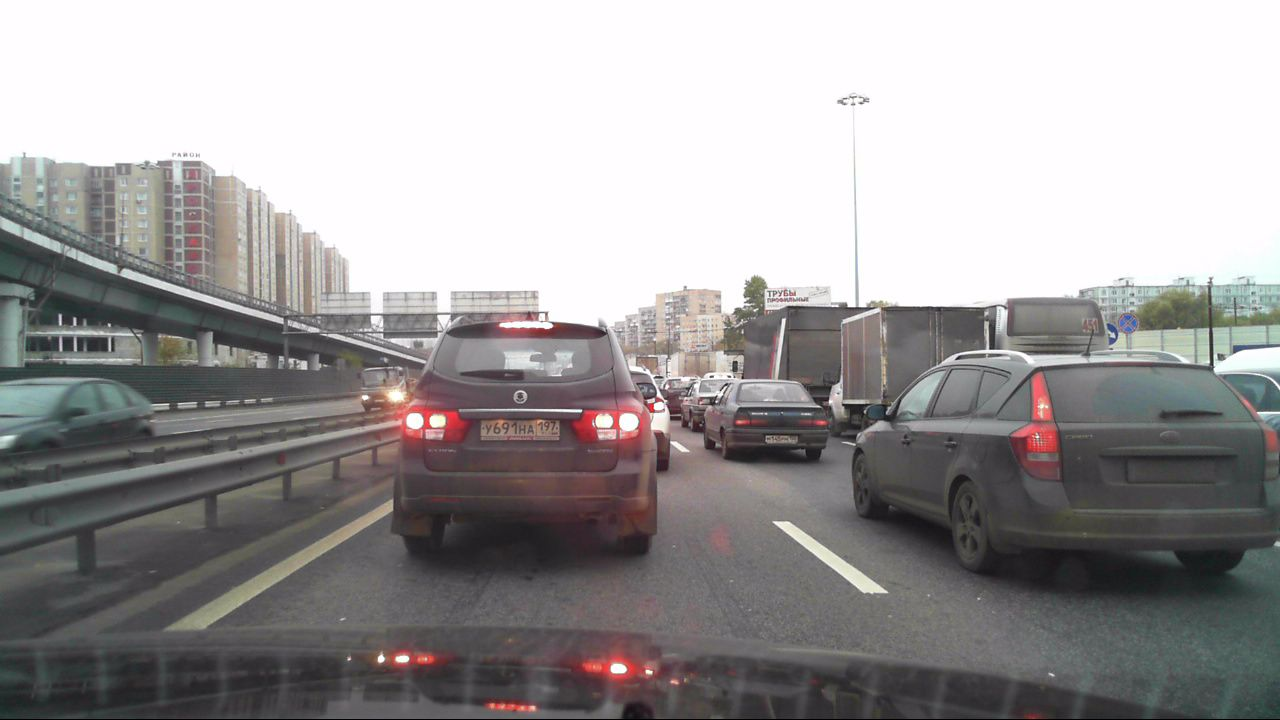No Parking: (1119, 314, 1140, 335)
